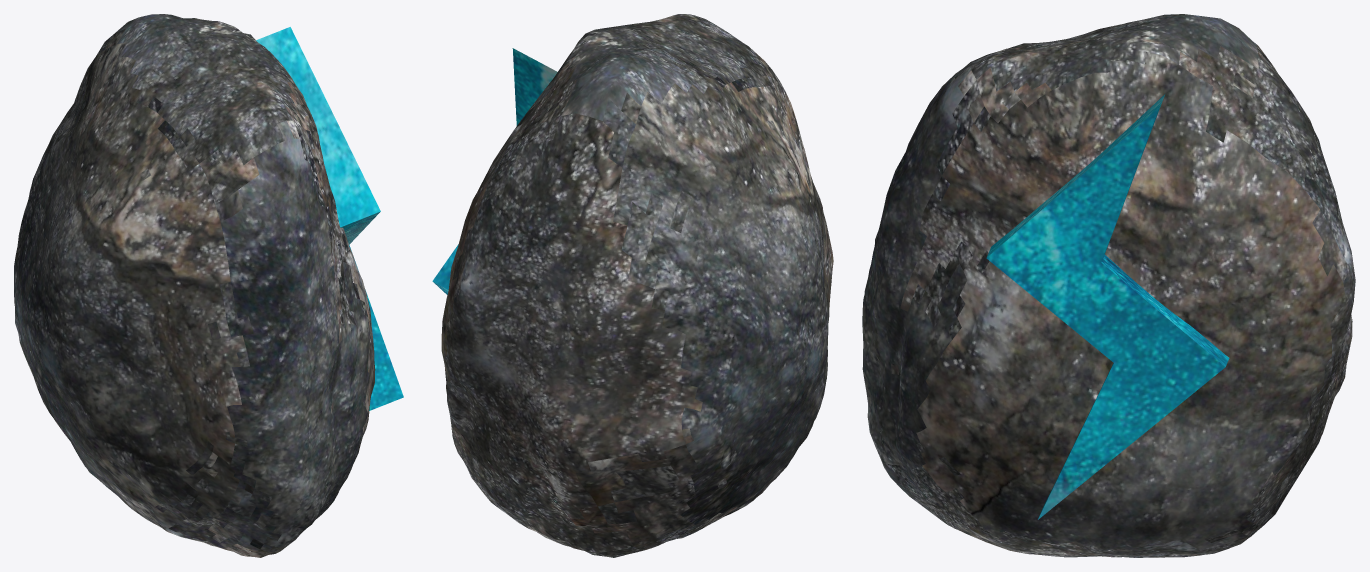
Rendered from powerup_hell_mana.FBX.
The picture shows the model from 3 angles, left to right: view 1: azimuth 30°, elevation 25°; view 2: azimuth 150°, elevation 25°; view 3: azimuth 270°, elevation 25°; orthographic projection. The views are drawn at different scales.
Parts seen in each view (by area): view 1: Pyramid004; view 2: Pyramid004; view 3: Pyramid004.
Part boxes in pixels (x1,y1,x2,y2): Pyramid004: (14,14,403,557); Pyramid004: (432,14,833,557); Pyramid004: (862,14,1355,557).
Size of the model in its own units: 5.33 by 7.49 by 6.34.
Materials: 1 (1 with a texture image).
